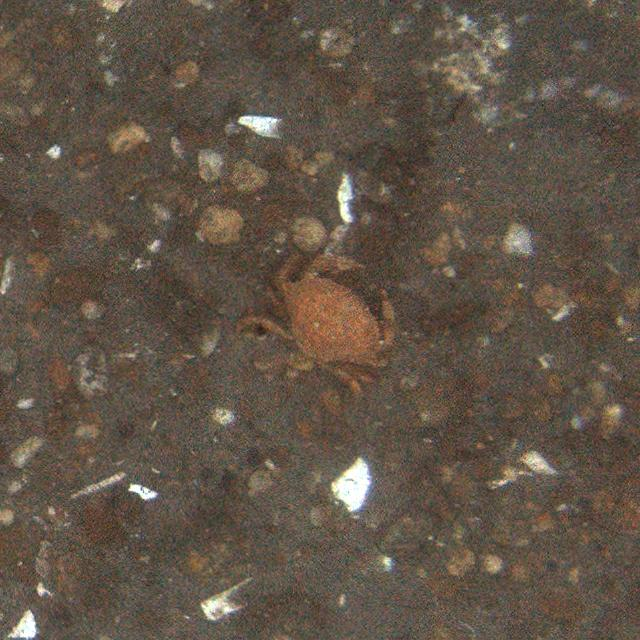crab: (231, 247, 397, 390)
